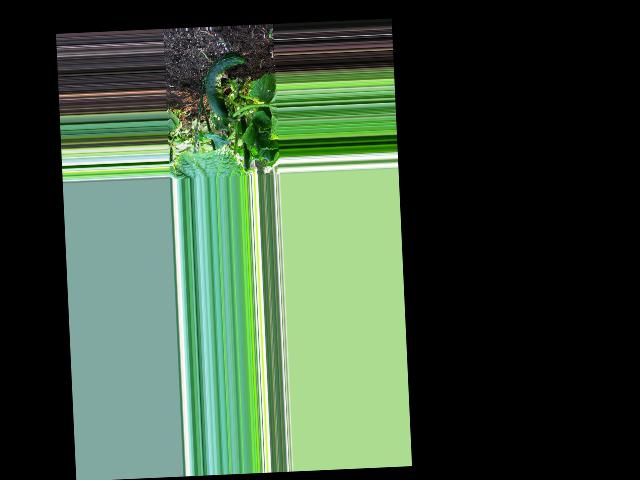cucumber: (203, 53, 247, 120)
